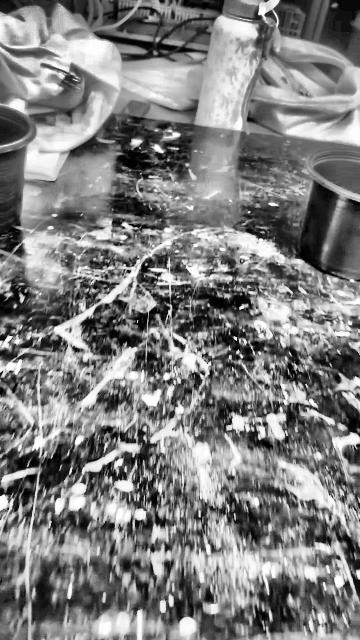pot: (298, 149, 359, 280), (0, 105, 35, 235)
